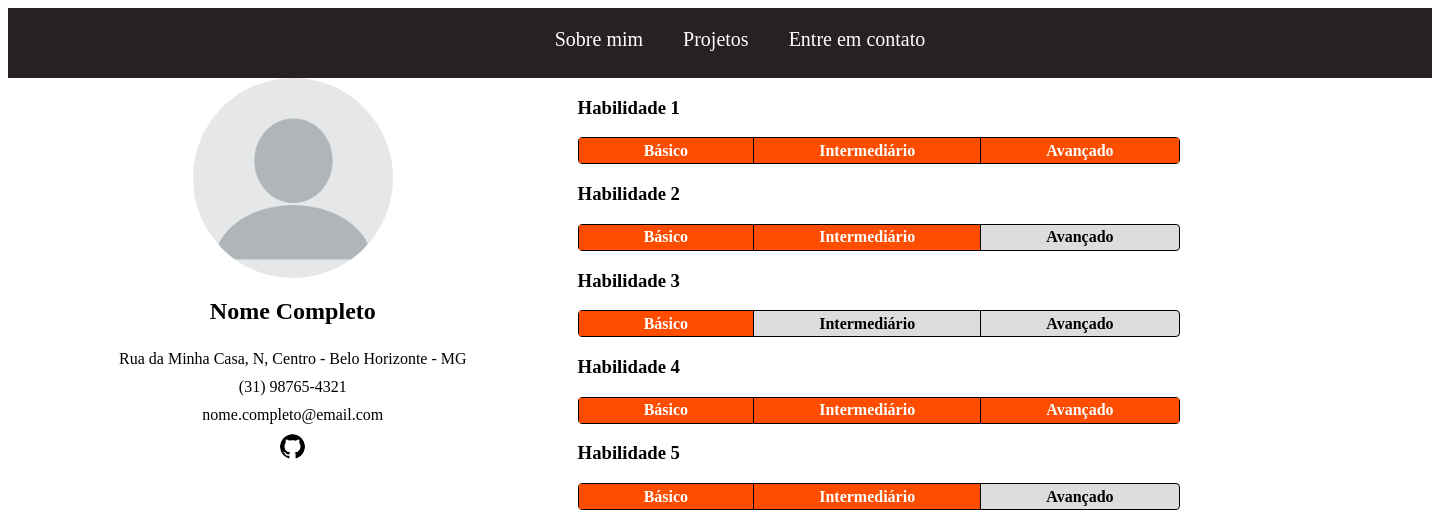
routes › navigating from home to getInTouch
Expected: the heading "Nome Completo" is shown, top-left (210, 298), bottom-right (376, 325)
Step 1. Click the link "Entre em contato" → click(857, 39), box top-left (789, 28), bottom-right (925, 50)
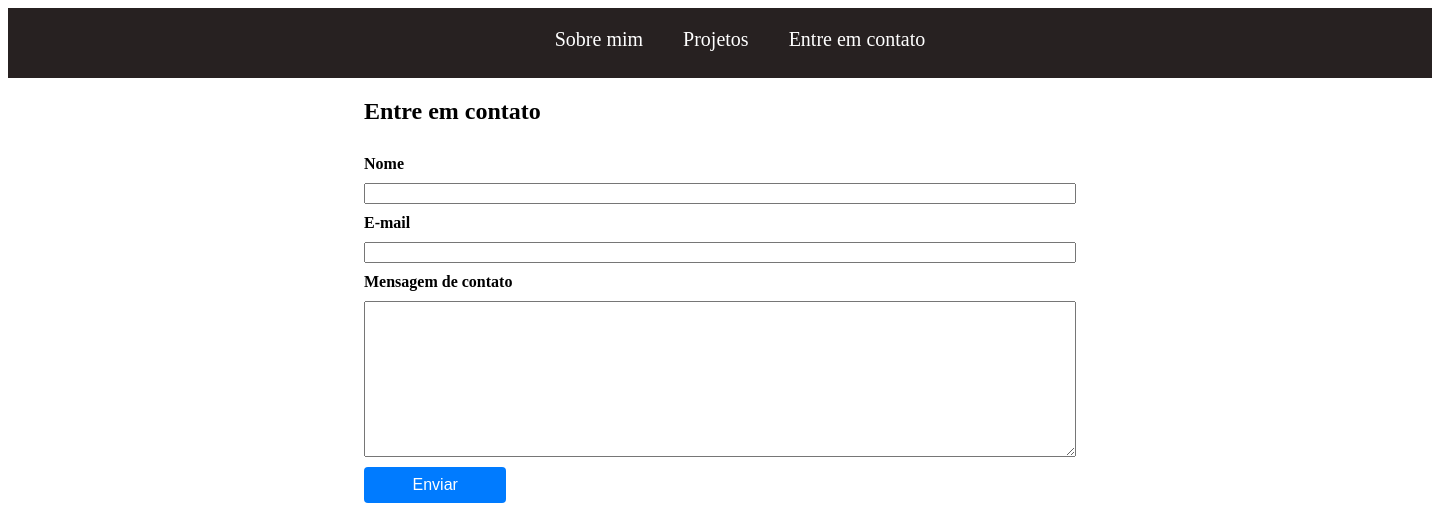
Expected: the text "Mensagem de contato" is shown, top-left (364, 273), bottom-right (512, 290)
